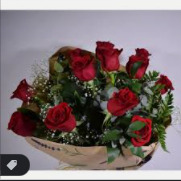RedRose: (6, 104, 43, 139), (66, 51, 100, 86), (94, 37, 123, 74), (105, 84, 138, 115), (46, 99, 76, 131), (5, 73, 38, 100), (127, 115, 155, 146), (129, 43, 153, 76)
